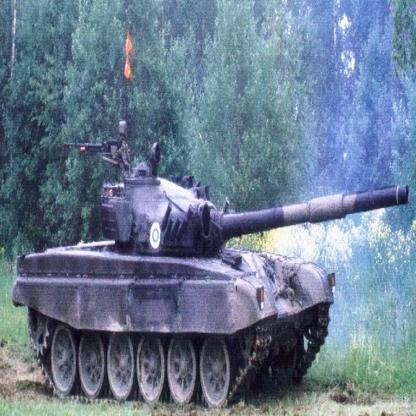Tank: (13, 144, 408, 406)
